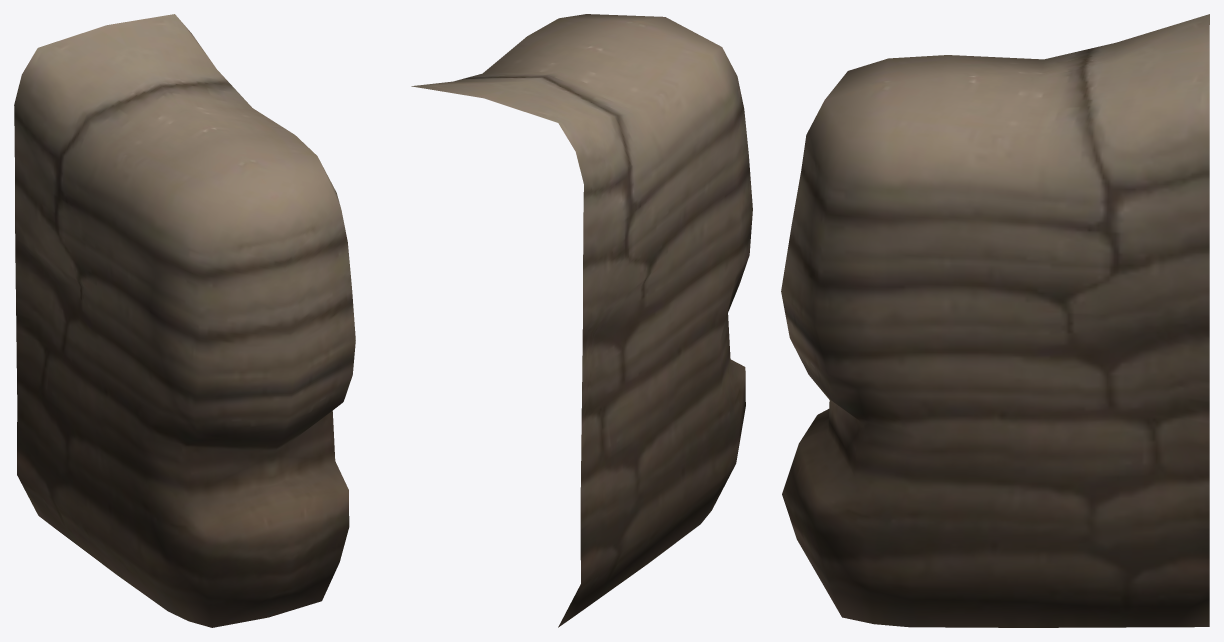
3 renders of one model, left to right at view 1: azimuth 30°, elevation 25°; view 2: azimuth 150°, elevation 25°; view 3: azimuth 270°, elevation 25°, orthographic. The views are drawn at different scales.
Visible parts, largest first — view 1: body0_model0_lod0_mesh0; view 2: body0_model0_lod0_mesh0; view 3: body0_model0_lod0_mesh0.
Boxes of the visible parts, x1=… form: body0_model0_lod0_mesh0: x1=14, y1=14, x2=355, y2=627; body0_model0_lod0_mesh0: x1=411, y1=14, x2=752, y2=627; body0_model0_lod0_mesh0: x1=781, y1=14, x2=1209, y2=627.
Bounding box in the file's own units: 25.34 × 61.6 × 43.75.
1 material, 1 textured.
